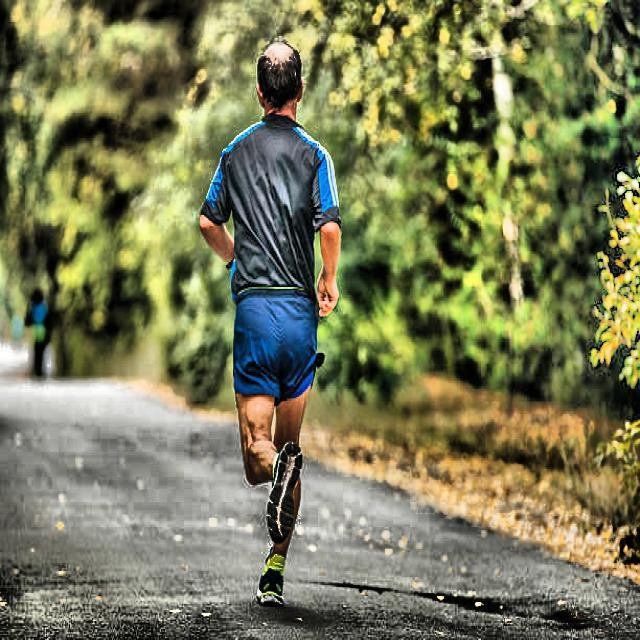Human: (199, 38, 367, 633)
